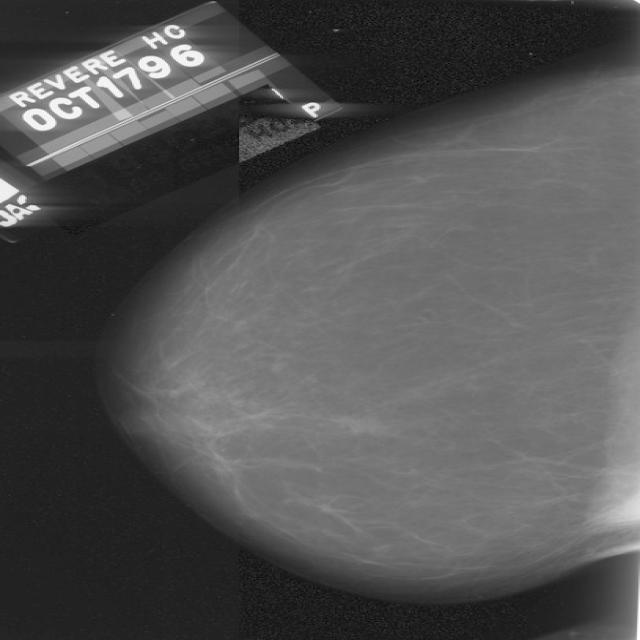tumour: (332, 412, 392, 436)
